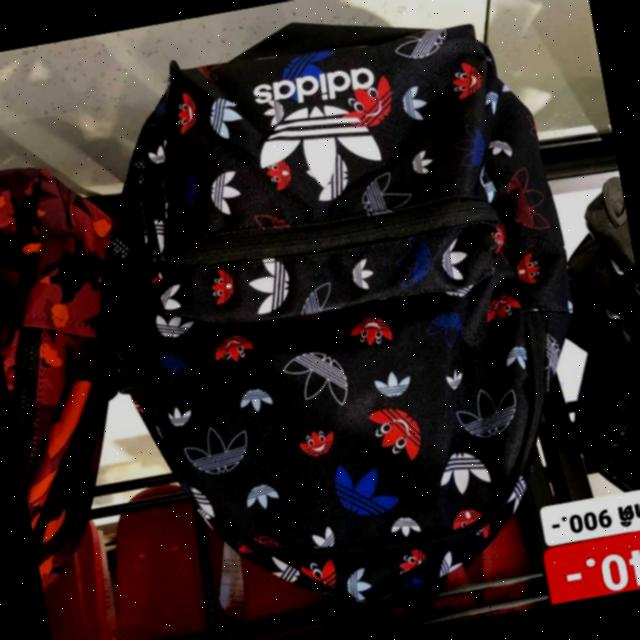Handbag: (56, 0, 623, 640)
